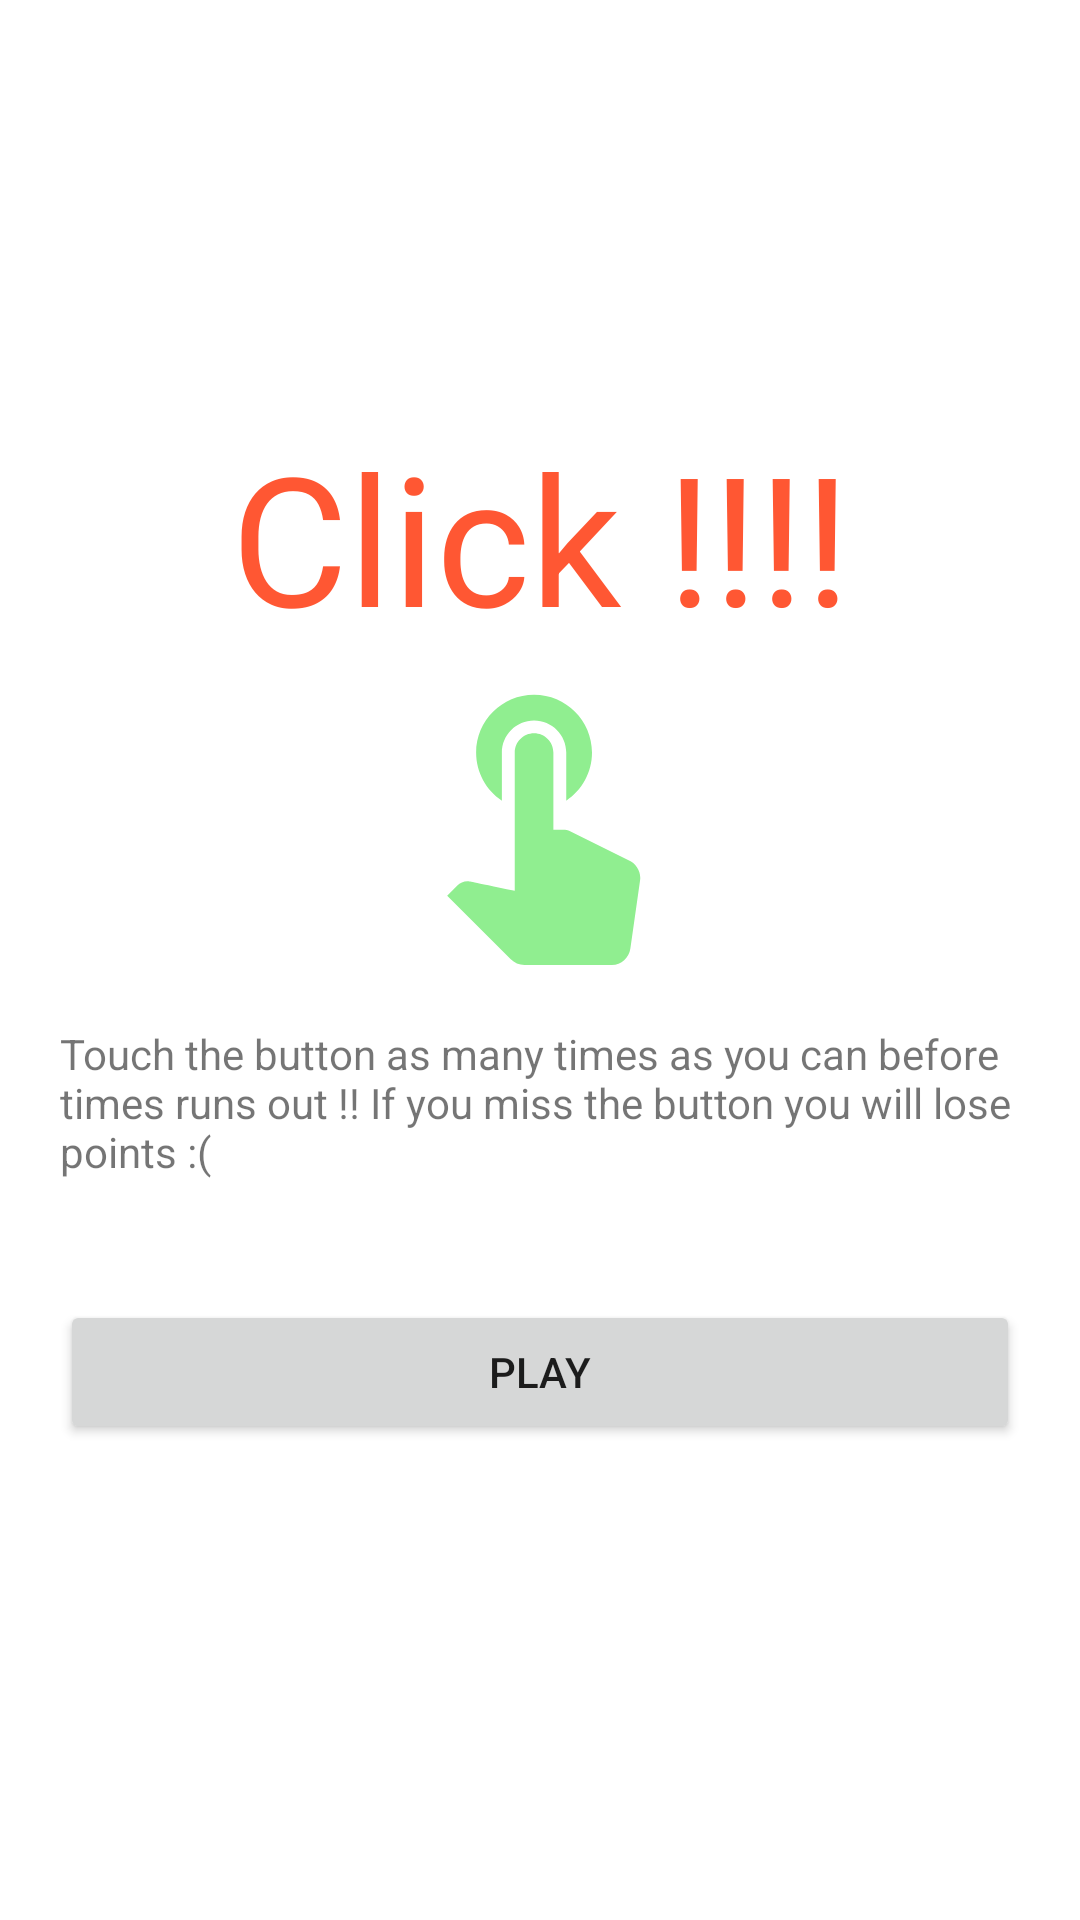

Screen size 1080*1920. Icon name, then its center in pixels as (x=x, y=y):
touch app: (x=544, y=829)
